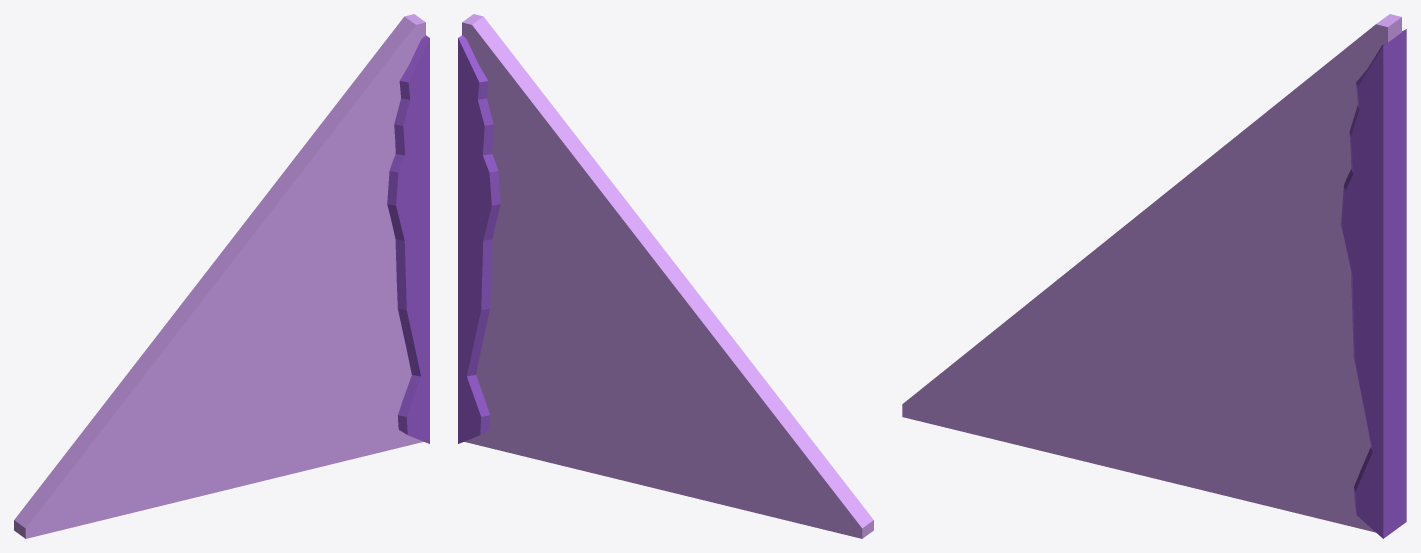
File: Modular Wall Triangle 01.fbx
The picture shows the model from 3 angles, left to right: view 1: azimuth 30°, elevation 25°; view 2: azimuth 150°, elevation 25°; view 3: azimuth 330°, elevation 25°; orthographic projection. The views are drawn at different scales.
Visible parts, largest first — view 1: Modular Wall Triangle 01; view 2: Modular Wall Triangle 01; view 3: Modular Wall Triangle 01.
Boxes of the visible parts, x1,y1,x2,y2 form: Modular Wall Triangle 01: (14, 14, 429, 538); Modular Wall Triangle 01: (458, 14, 873, 538); Modular Wall Triangle 01: (902, 14, 1406, 538).
Bounding box in the file's own units: 400 × 400 × 33.4.
